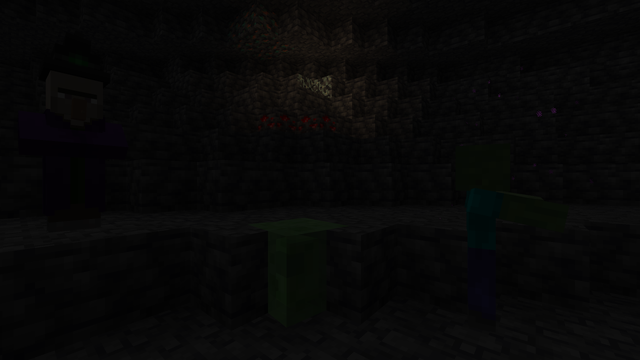slimes: (242, 215, 349, 329)
sorcieres: (38, 60, 109, 235)
zombies: (445, 147, 513, 341)
